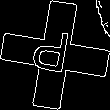P_S: (32, 27, 78, 83)
